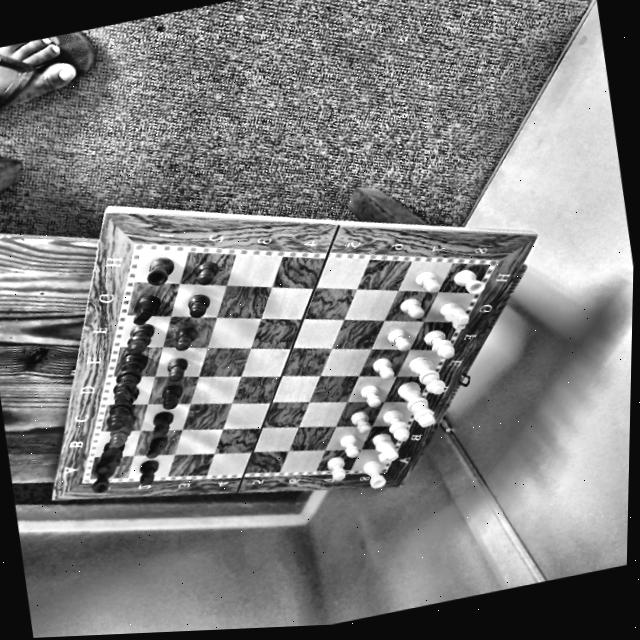black-bishop: (102, 403, 141, 450), (120, 319, 160, 358)
black-king: (105, 347, 155, 405)
black-knight: (90, 434, 132, 475), (126, 290, 166, 327)
black-pawn: (190, 254, 224, 289), (168, 322, 203, 354), (146, 407, 179, 439), (182, 288, 213, 322), (132, 456, 163, 489), (156, 380, 187, 412), (141, 432, 173, 463), (163, 352, 193, 383)
black-queen: (98, 379, 146, 433)
black-rook: (140, 251, 180, 288), (86, 458, 124, 496)
white-bishop: (403, 347, 451, 403), (418, 322, 460, 364), (378, 403, 416, 446)
white-king: (393, 374, 440, 431)
white-knight: (435, 295, 477, 335), (365, 427, 407, 466)
white-pawn: (393, 291, 431, 324), (412, 264, 445, 298), (381, 324, 416, 355), (356, 380, 387, 410), (369, 353, 398, 383), (322, 453, 351, 483), (347, 407, 375, 435), (336, 431, 363, 460)
white-rook: (448, 260, 492, 300), (360, 455, 390, 494)
